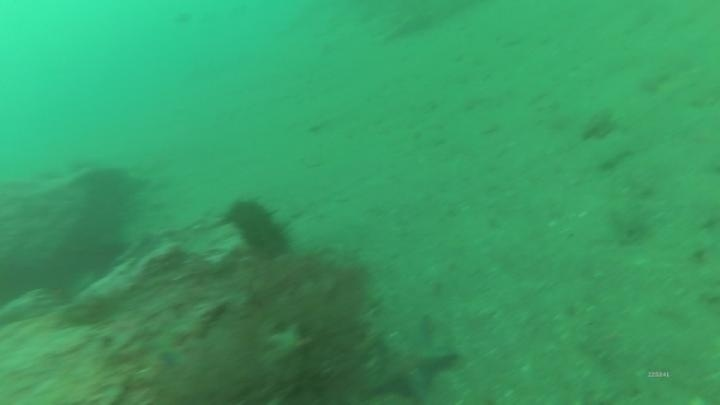echinus: (223, 195, 296, 261)
starfish: (362, 317, 462, 405)
